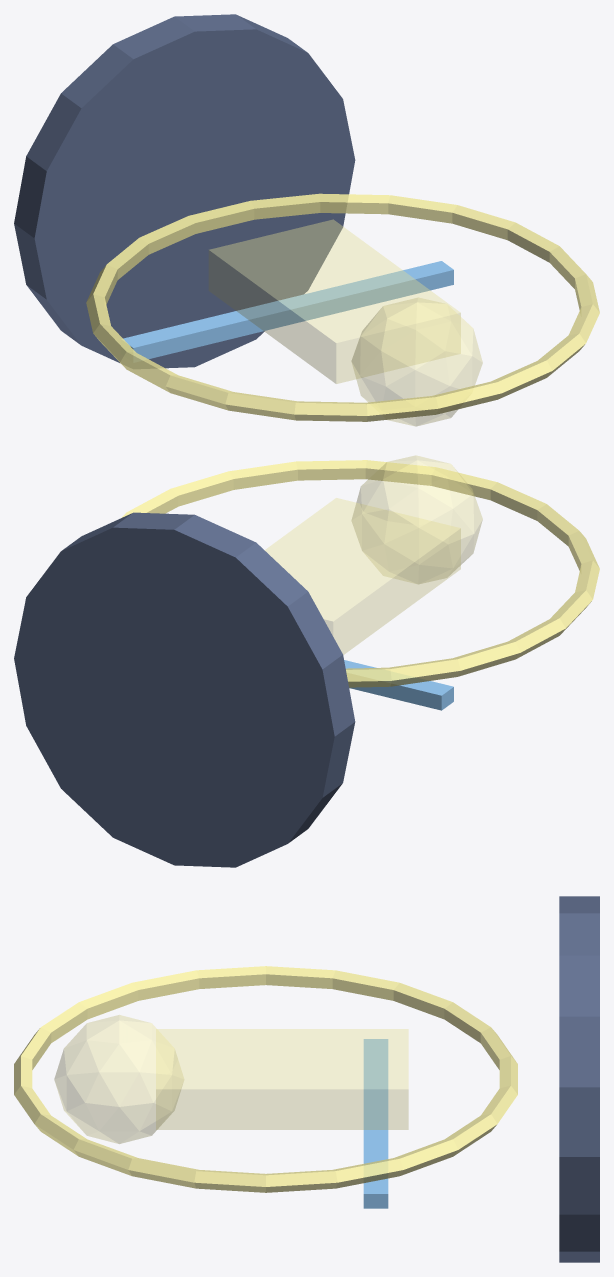
File: 07_support_npc_aura.glb
3 views of the same model, one above another, from view 1: azimuth 30°, elevation 25°; view 2: azimuth 150°, elevation 25°; view 3: azimuth 270°, elevation 25° (orthographic).
Parts seen in each view (by area): view 1: npc_support_base, support_holo_body, ally_command_ring, support_holo_head, assist_beam_marker; view 2: npc_support_base, support_holo_body, ally_command_ring, support_holo_head, assist_beam_marker; view 3: support_holo_body, ally_command_ring, npc_support_base, support_holo_head, assist_beam_marker.
Part boxes in pixels (left/top/right/bottom): npc_support_base: left=14, top=14, right=355, bottom=368; support_holo_body: left=209, top=219, right=460, bottom=383; ally_command_ring: left=86, top=193, right=599, bottom=421; support_holo_head: left=351, top=297, right=482, bottom=426; assist_beam_marker: left=121, top=261, right=453, bottom=362; npc_support_base: left=14, top=512, right=355, bottom=867; support_holo_body: left=265, top=498, right=460, bottom=654; ally_command_ring: left=121, top=460, right=599, bottom=687; support_holo_head: left=352, top=455, right=482, bottom=583; assist_beam_marker: left=344, top=660, right=453, bottom=710; support_holo_body: left=156, top=1029, right=408, bottom=1129; ally_command_ring: left=14, top=966, right=517, bottom=1192; npc_support_base: left=559, top=896, right=599, bottom=1262; support_holo_head: left=54, top=1015, right=183, bottom=1143; assist_beam_marker: left=363, top=1039, right=388, bottom=1208.
Size of the model in its own units: 1.25 by 0.9 by 1.44.
